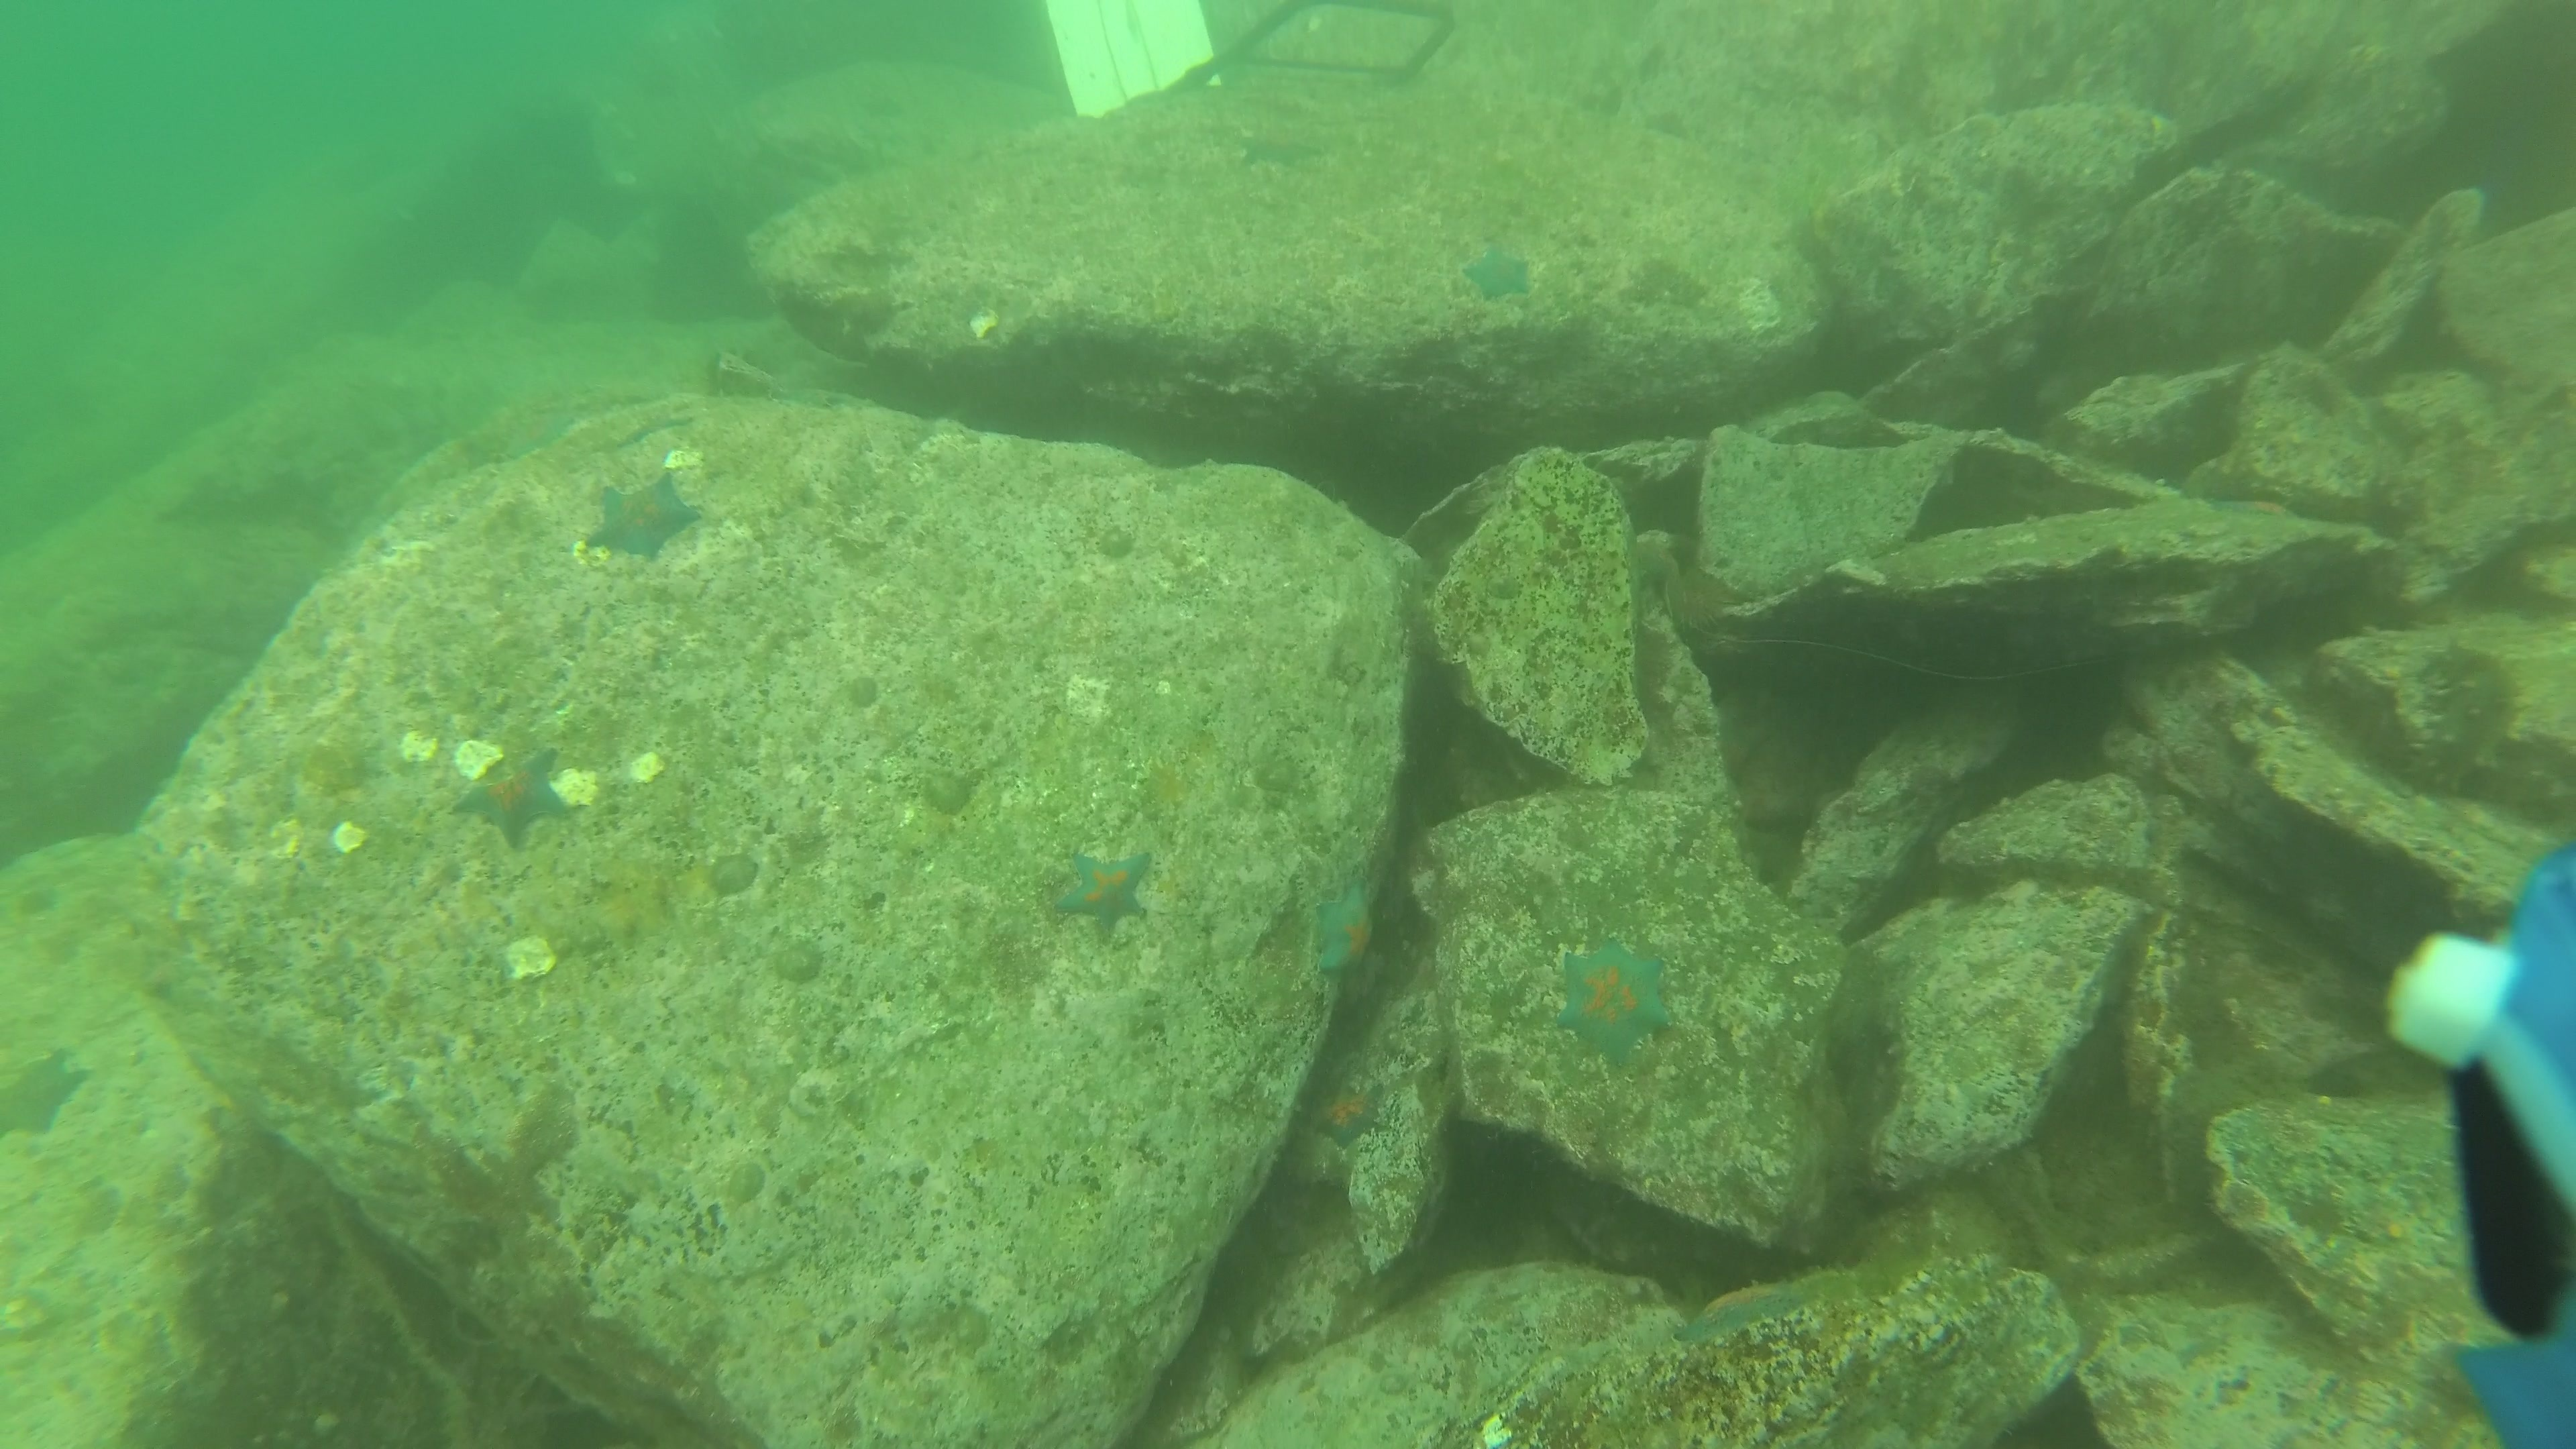echinus: (1656, 561, 1748, 640)
holothurian: (2420, 635, 2521, 798)
starfish: (1555, 927, 1677, 1067), (444, 745, 579, 851), (582, 469, 708, 566), (1058, 839, 1162, 938), (1672, 1270, 1821, 1339), (2, 1044, 94, 1146), (1307, 878, 1382, 989), (1309, 1076, 1394, 1152), (1460, 239, 1537, 304), (1233, 126, 1332, 173)
